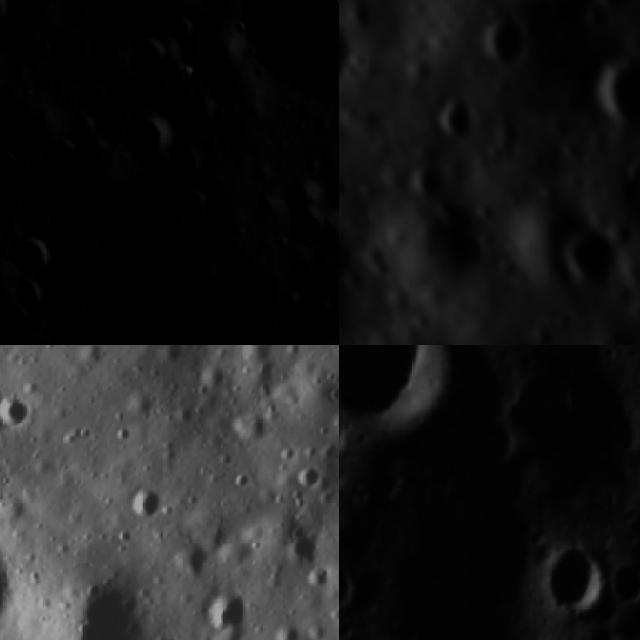crater: (218, 0, 339, 106), (339, 345, 464, 439), (21, 562, 170, 640), (572, 56, 640, 150), (540, 536, 614, 618), (87, 222, 178, 288), (556, 218, 624, 299), (197, 575, 270, 640), (471, 13, 542, 79), (427, 89, 484, 160), (217, 393, 280, 457), (114, 109, 168, 181), (118, 467, 176, 529), (163, 526, 220, 587), (272, 518, 328, 574), (0, 381, 49, 441), (115, 30, 169, 77), (339, 21, 365, 99), (581, 0, 640, 33), (12, 238, 49, 286), (607, 555, 640, 608), (606, 155, 640, 206), (339, 560, 369, 612), (0, 288, 48, 319), (261, 610, 308, 640), (146, 345, 192, 373), (294, 458, 329, 494), (169, 16, 195, 48), (0, 0, 14, 32)
